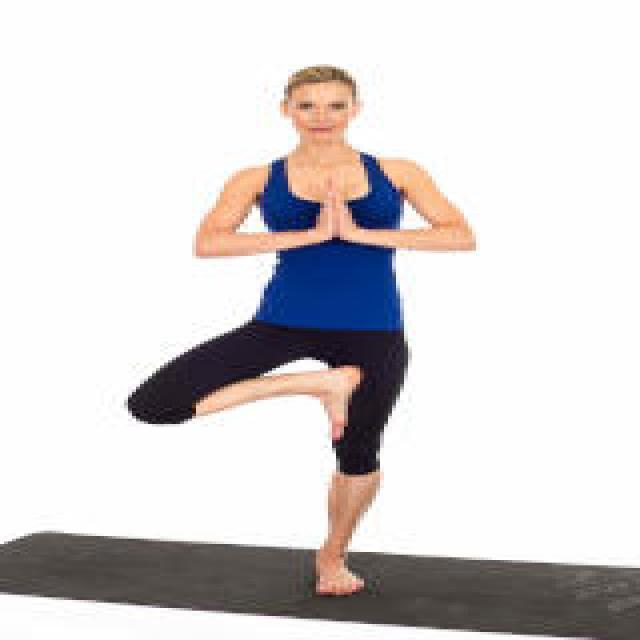yoga-pose tree: (122, 63, 478, 600)
